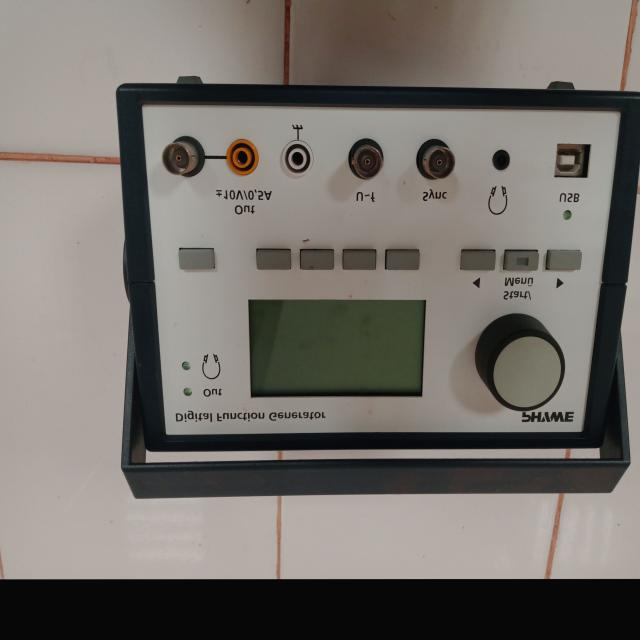Digital Function Generator: (101, 54, 640, 505)
